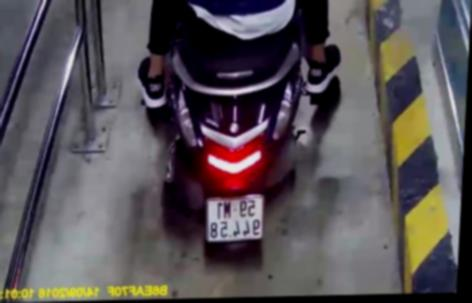License_Plate: (202, 188, 268, 245)
